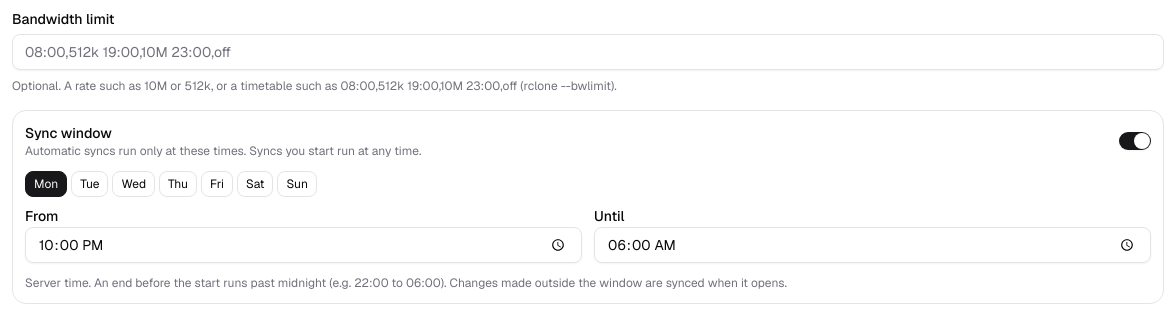
Scenario: SyncLimitsFields sync window › toggles days and asks for at least one
Click the button "Mon" at coordinates (46, 184), box [25,171,67,197]
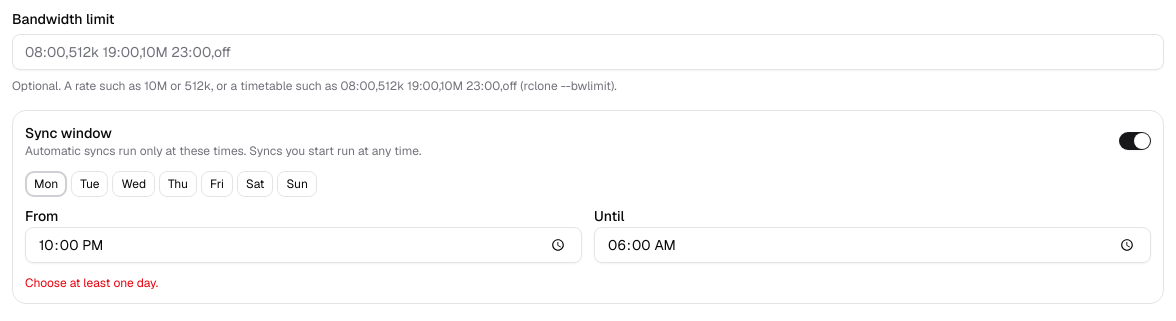
Check: the text "Choose at least one day." is shown, box [25,275,158,291]
Click the button "Sun" at coordinates (297, 184), box [277,171,317,197]
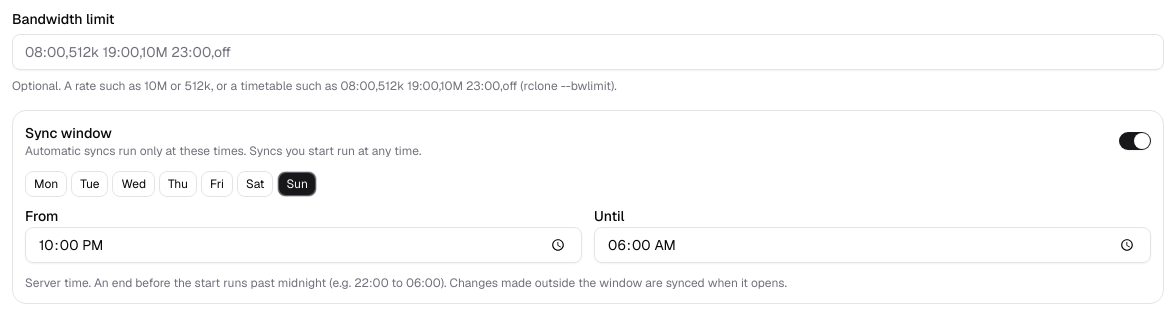
Check: the text "Choose at least one day." is gone
